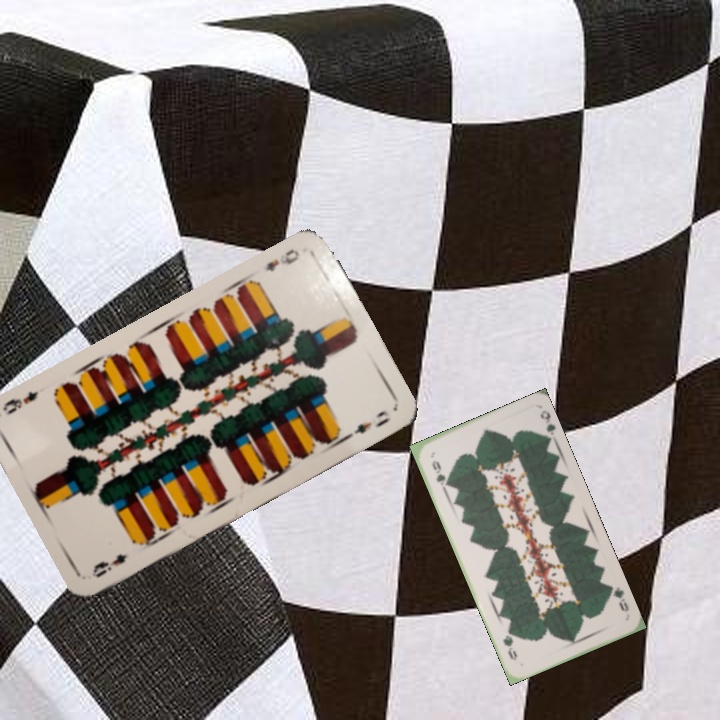E9: (87, 550, 130, 581), (262, 244, 302, 275)
G9: (605, 582, 631, 615), (428, 456, 451, 491)
